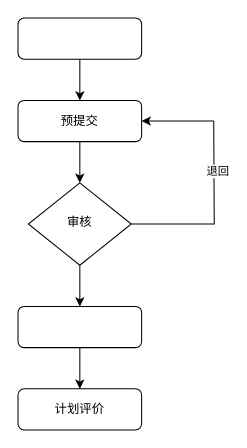
This 247x448 diagram has some shape labels left out. Here are the shapes that lost their labels. From the top down, the centre of each, then its label:
At point 79,38: "创建培训计划".
At point 79,326: "计划实施".
